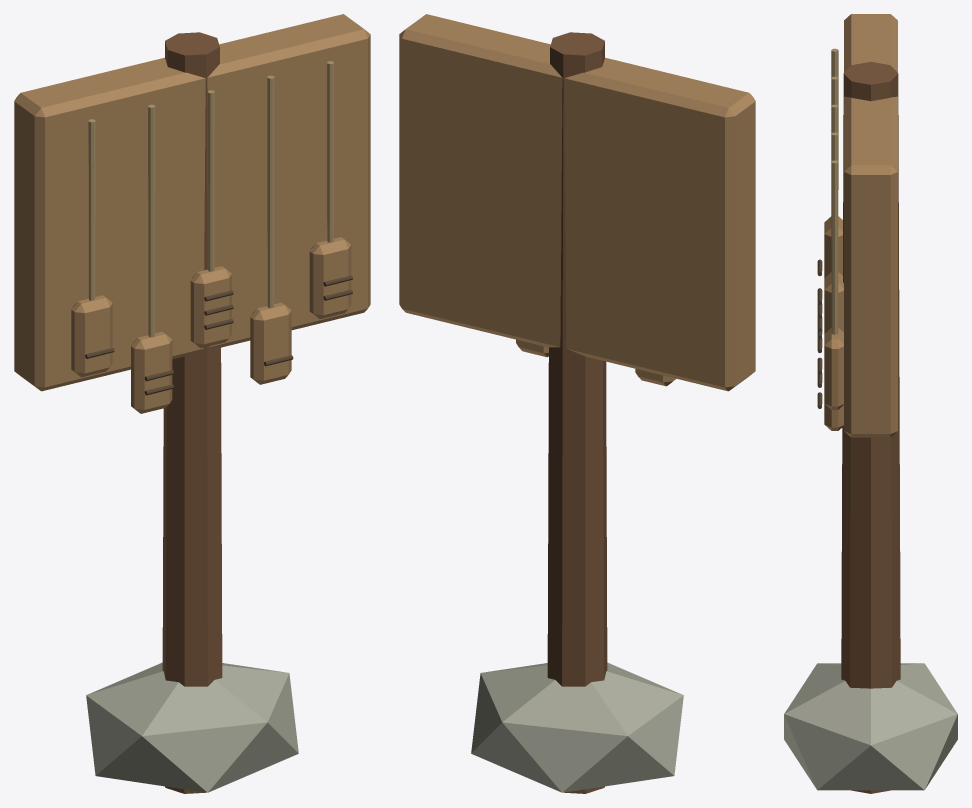
3 renders of one model, left to right at view 1: azimuth 30°, elevation 25°; view 2: azimuth 150°, elevation 25°; view 3: azimuth 270°, elevation 25°, orthographic. The views are drawn at different scales.
Visible parts, largest first — view 1: WW-070 Suspended timber-lot tally post batched; view 2: WW-070 Suspended timber-lot tally post batched; view 3: WW-070 Suspended timber-lot tally post batched.
Part boxes in pixels (x1,y1,x2,y2): WW-070 Suspended timber-lot tally post batched: [14, 14, 370, 793]; WW-070 Suspended timber-lot tally post batched: [399, 14, 755, 793]; WW-070 Suspended timber-lot tally post batched: [784, 14, 957, 793].
Size of the model in its own units: 0.62 by 1.31 by 0.2892.
